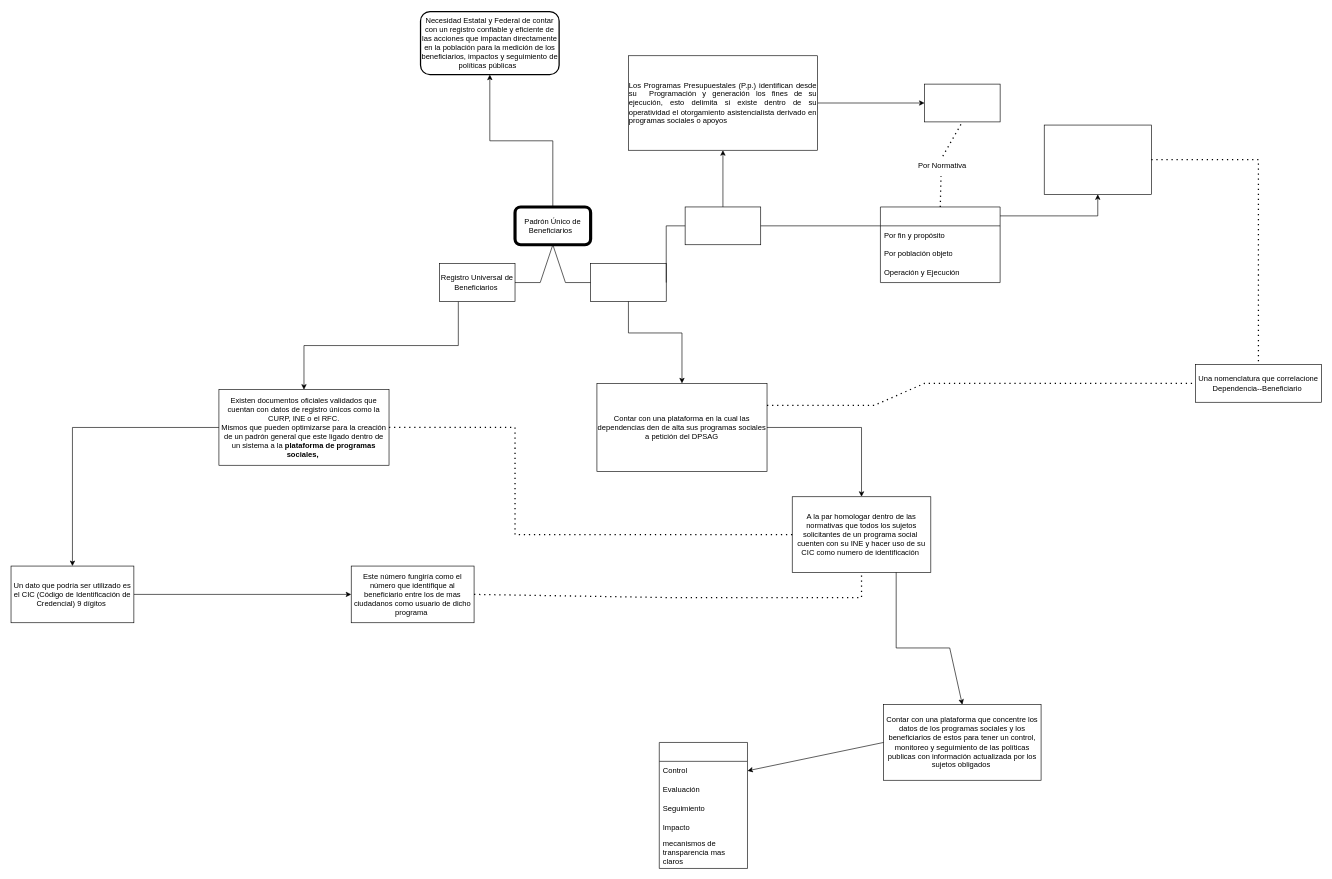
Image size: 1332x879. Some labels were removed from this diagram. The box of each missing label's shape, as (x1, y1, x2, y2) in pixels:
A fin de contar con nomenclaturas que nos hagan correlacionar los datos: (1044, 124, 1151, 194)
Alimentado por los P.p. que tengan actividades con apoyos: (684, 206, 761, 245)
Beneficios: (659, 742, 747, 868)
Desarrollar tipología y clasificación: (880, 206, 1000, 283)
La DPSAG se encarga del seguimiento a estas especificaciones: (924, 83, 1000, 122)
Plataforma de Programas Sociales: (590, 263, 666, 301)
